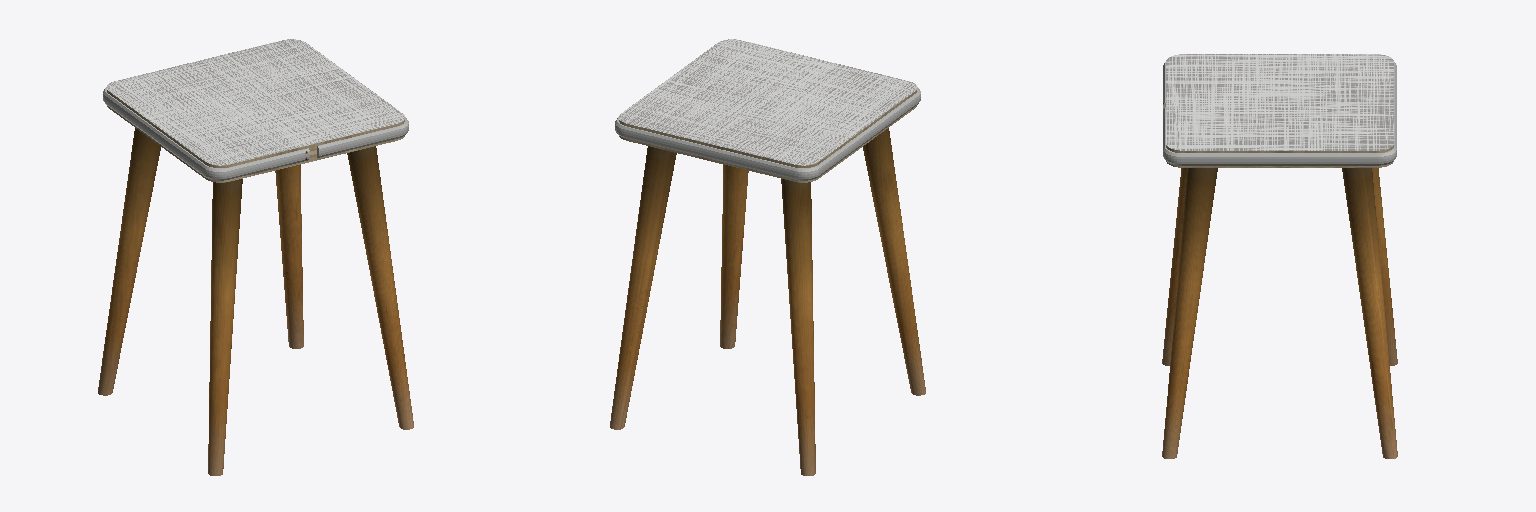
The picture shows the model from 3 angles: view 1: azimuth 30°, elevation 25°; view 2: azimuth 150°, elevation 25°; view 3: azimuth 270°, elevation 25°; orthographic projection.
Visible parts, largest first — view 1: Taburetka; view 2: Taburetka; view 3: Taburetka.
Boxes of the visible parts, <box> form: Taburetka: <box>98,39,413,475</box>; Taburetka: <box>610,39,925,475</box>; Taburetka: <box>1162,54,1397,458</box>.
Size of the model in its own units: 0.3101 by 0.4456 by 0.3101.
Materials: 5 (1 with a texture image).